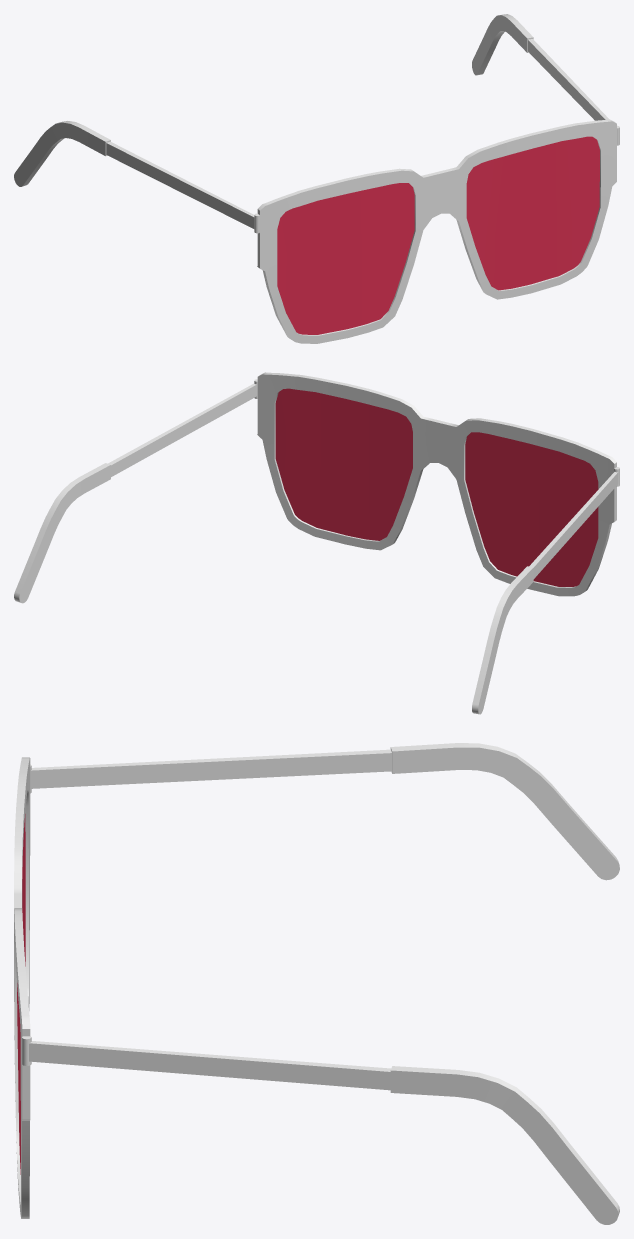
File: redShades.glb
The picture shows the model from 3 angles, top to bottom: view 1: azimuth 30°, elevation 25°; view 2: azimuth 150°, elevation 25°; view 3: azimuth 270°, elevation 25°; orthographic projection. The views are drawn at different scales.
Visible parts, largest first — view 1: glasses19.001; view 2: glasses19.001; view 3: glasses19.001.
Part boxes in pixels (box(x1,y1,x2,y2)): glasses19.001: box(14, 14, 619, 343); glasses19.001: box(14, 372, 619, 714); glasses19.001: box(14, 743, 619, 1224).
Bounding box in the file's own units: 2.28 × 0.7419 × 1.66.
